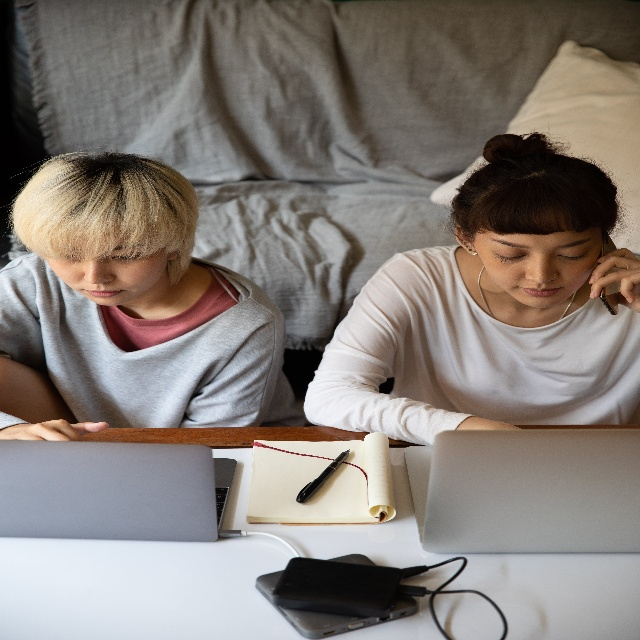Sin_guantes: (0, 417, 109, 444), (588, 247, 640, 303)
